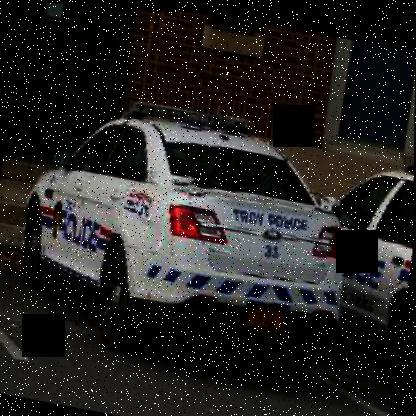emergency: (0, 68, 376, 415)
